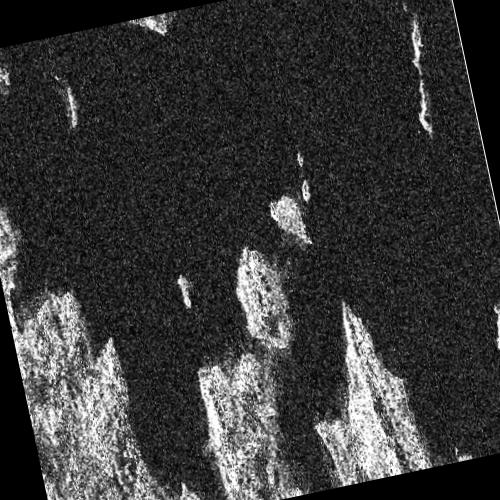ship: (177, 273, 191, 309)
